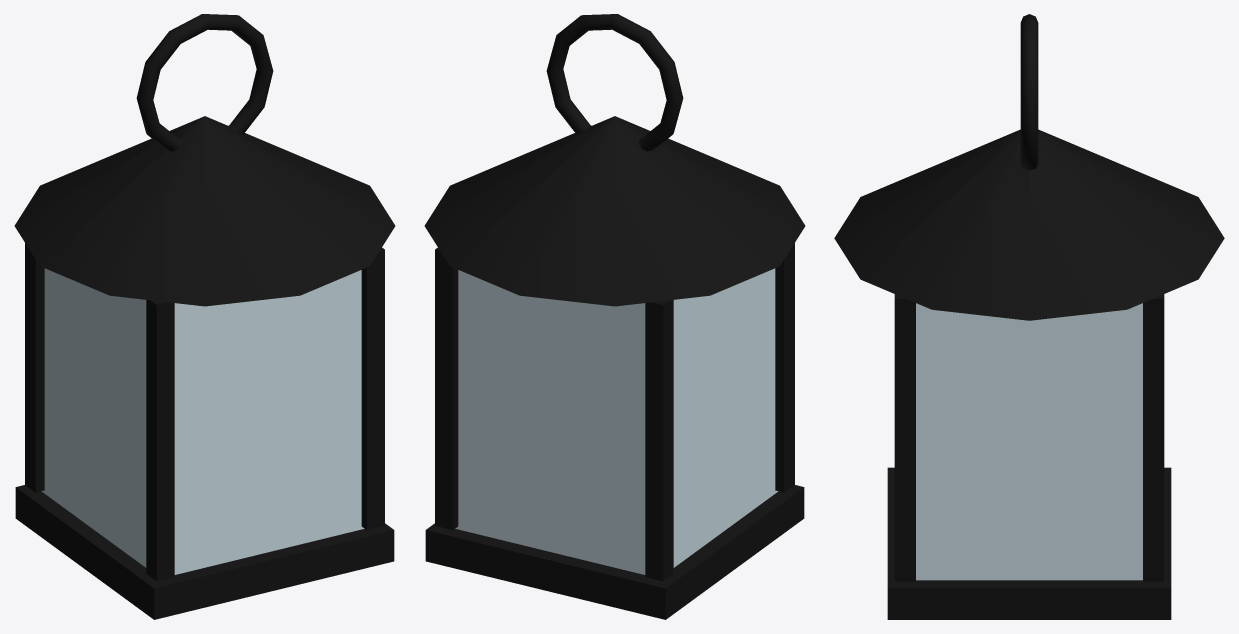
Rendered from lantern_garden.glb.
3 renders of one model, left to right at view 1: azimuth 30°, elevation 25°; view 2: azimuth 150°, elevation 25°; view 3: azimuth 270°, elevation 25°, orthographic. The views are drawn at different scales.
Visible parts, largest first — view 1: Part1, Part6, Part0, Part4, Part5, Part7, Part2; view 2: Part1, Part6, Part0, Part2, Part3, Part7, Part4; view 3: Part1, Part6, Part0, Part3, Part5, Part7.
Boxes of the visible parts, x1=… form: Part1: x1=41, y1=268, x2=364, y2=574; Part6: x1=14, y1=116, x2=395, y2=306; Part0: x1=15, y1=485, x2=394, y2=619; Part4: x1=146, y1=300, x2=174, y2=581; Part5: x1=361, y1=247, x2=384, y2=529; Part7: x1=136, y1=14, x2=273, y2=151; Part2: x1=25, y1=243, x2=44, y2=492; Part1: x1=455, y1=268, x2=778, y2=574; Part6: x1=424, y1=116, x2=805, y2=306; Part0: x1=425, y1=485, x2=804, y2=619; Part2: x1=645, y1=300, x2=673, y2=581; Part3: x1=435, y1=247, x2=458, y2=529; Part7: x1=546, y1=14, x2=683, y2=151; Part4: x1=775, y1=243, x2=794, y2=492; Part1: x1=916, y1=303, x2=1142, y2=580; Part6: x1=834, y1=129, x2=1224, y2=320; Part0: x1=887, y1=467, x2=1171, y2=619; Part3: x1=1143, y1=294, x2=1164, y2=581; Part5: x1=894, y1=294, x2=915, y2=581; Part7: x1=1020, y1=14, x2=1038, y2=170.
Bounding box in the file's own units: 0.22 × 0.335 × 0.22.
